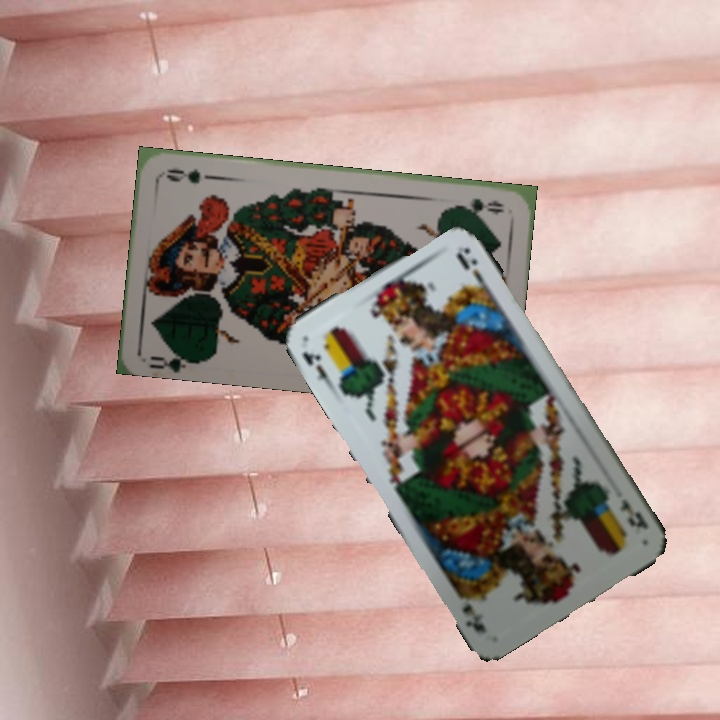EK: (298, 347, 336, 392), (616, 495, 651, 532)
GO: (146, 343, 202, 371), (449, 194, 507, 216)
